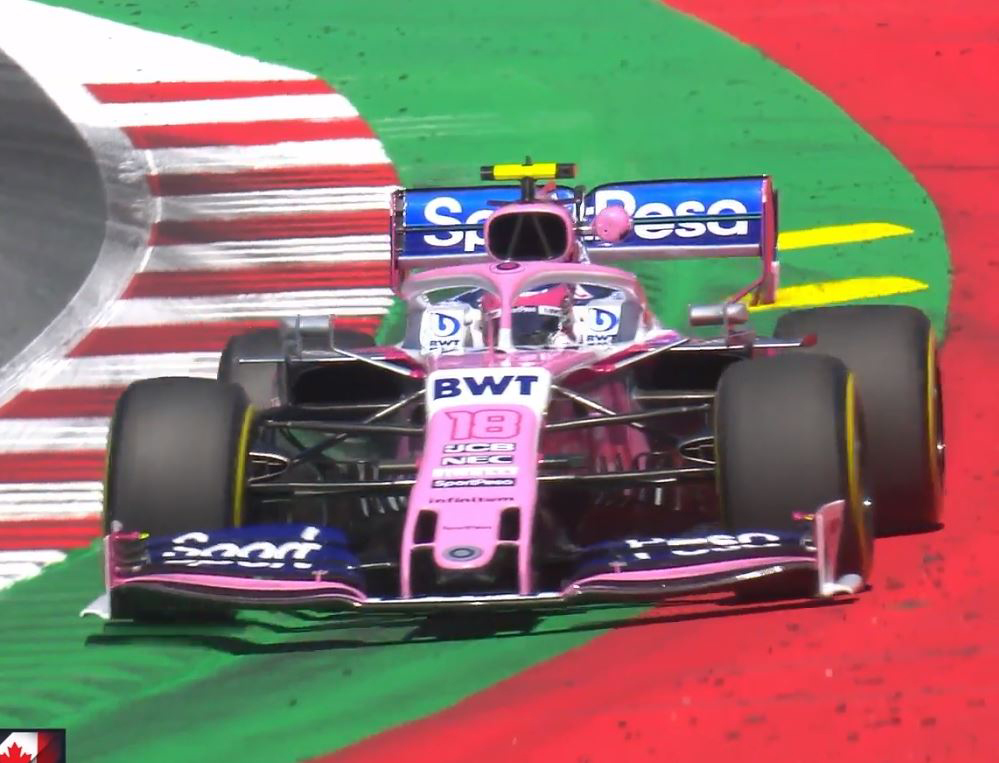F1 Car: (95, 151, 949, 615)
